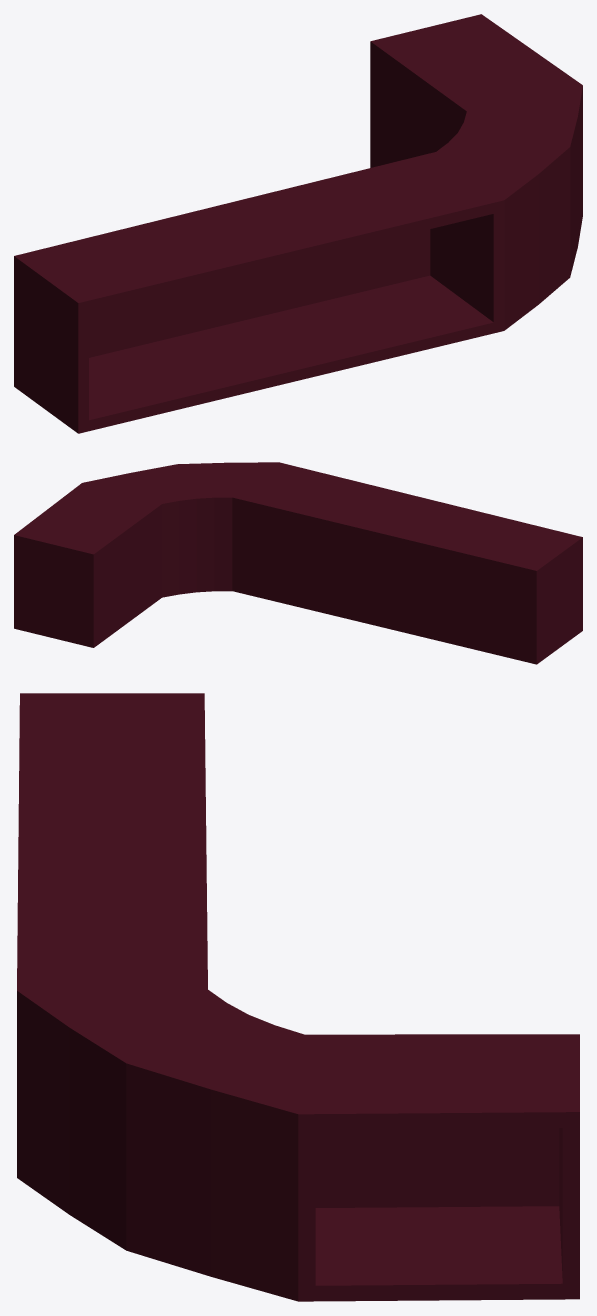
File: FrontDesk.fbx
3 renders of one model, top to bottom at view 1: azimuth 30°, elevation 25°; view 2: azimuth 150°, elevation 25°; view 3: azimuth 270°, elevation 25°, orthographic. The views are drawn at different scales.
Parts seen in each view (by area): view 1: Cube.403; view 2: Cube.403; view 3: Cube.403.
Boxes of the visible parts, x1=… form: Cube.403: x1=14, y1=14, x2=582, y2=433; Cube.403: x1=14, y1=462, x2=582, y2=664; Cube.403: x1=17, y1=693, x2=579, y2=1301.
Bounding box in the file's own units: 2034 × 422 × 1150.
